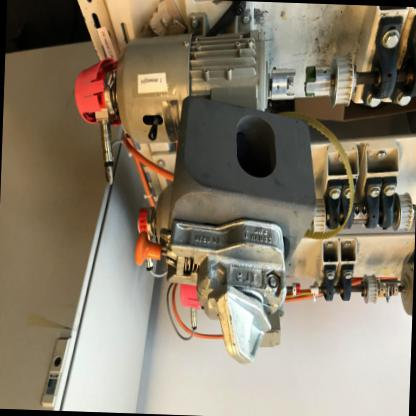CornerCasting: (162, 87, 318, 268)
Twistlock: (129, 212, 294, 370)
